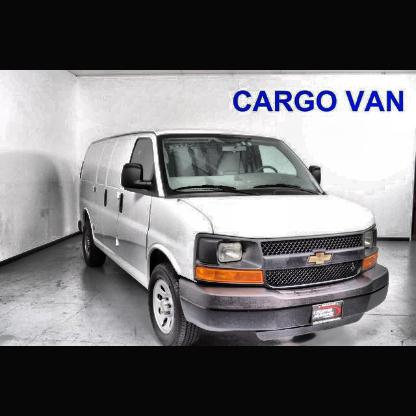Chevrolet Express Cargo Van 2007: (70, 128, 395, 346)
